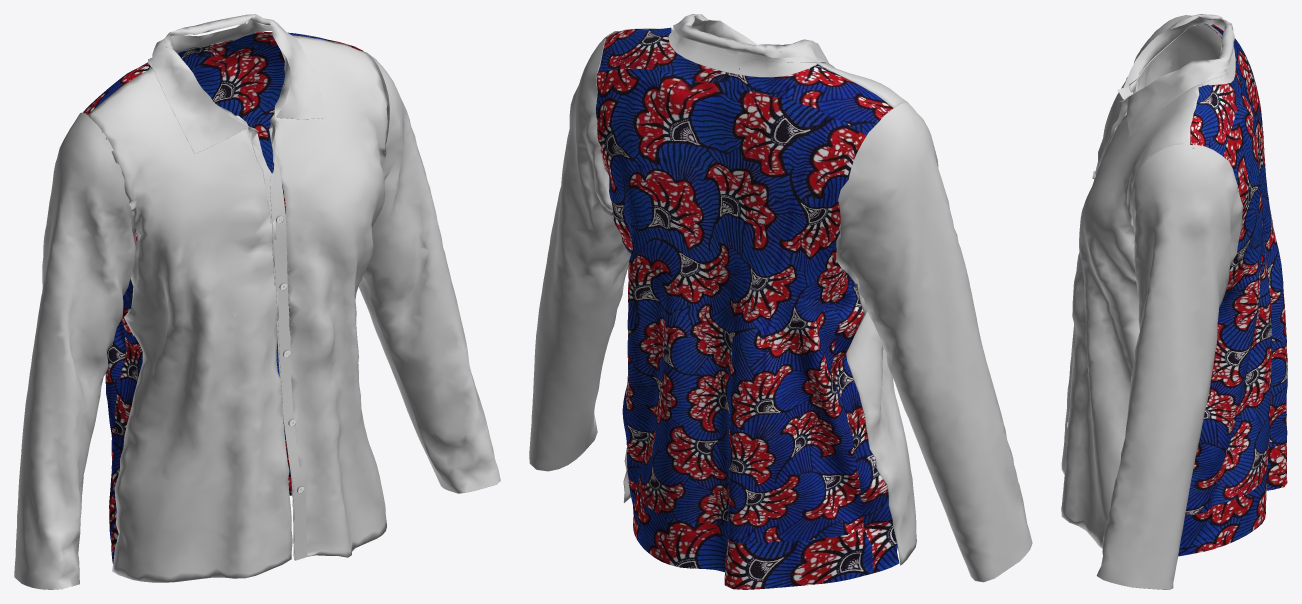
File: female_shirt_extra_long_two.glb
3 renders of one model, left to right at view 1: azimuth 30°, elevation 25°; view 2: azimuth 150°, elevation 25°; view 3: azimuth 270°, elevation 25°, orthographic. The views are drawn at different scales.
Parts seen in each view (by area): view 1: front, left_hand, right_hand, back, collar, midline; view 2: back, left_hand, right_hand, front, collar; view 3: right_hand, back, front, collar, left_hand, midline.
Part boxes in pixels (left/top/right/bottom): front: left=87, top=35, right=387, bottom=582; left_hand: left=14, top=112, right=135, bottom=589; right_hand: left=358, top=51, right=500, bottom=493; back: left=83, top=32, right=363, bottom=563; collar: left=148, top=14, right=325, bottom=153; midline: left=247, top=113, right=307, bottom=560; back: left=595, top=27, right=899, bottom=589; left_hand: left=836, top=102, right=1032, bottom=582; right_hand: left=529, top=31, right=631, bottom=471; front: left=602, top=28, right=916, bottom=565; collar: left=668, top=14, right=834, bottom=77; right_hand: left=1096, top=144, right=1243, bottom=589; back: left=1178, top=23, right=1287, bottom=556; front: left=1061, top=15, right=1202, bottom=548; collar: left=1123, top=14, right=1235, bottom=136; left_hand: left=1138, top=24, right=1222, bottom=90; midline: left=1067, top=85, right=1133, bottom=427.
Bounding box in the file's own units: 0.6567 × 0.6728 × 0.2945.
Materials: 1 (1 with a texture image).
